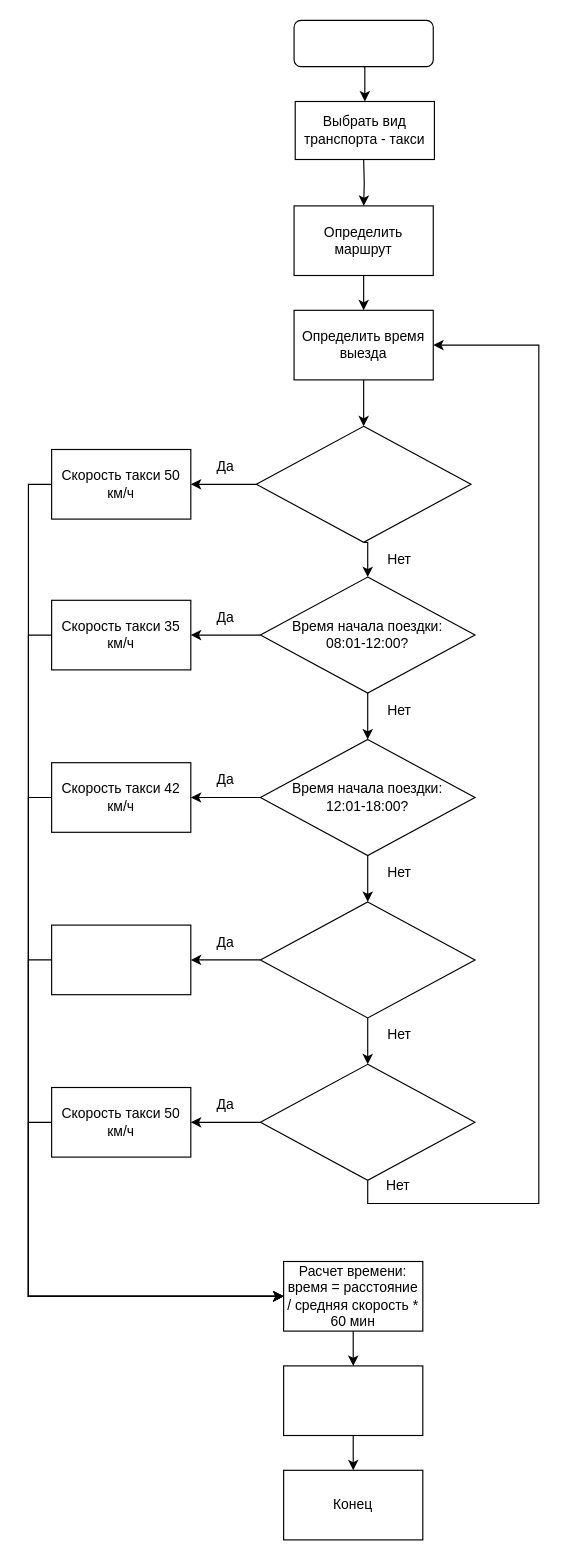
Image size: 568x1560. Some labels were removed from this diagram. Each missing label, with the centre of its shape:
"Время начала поездки: 00:01-08:00?" belongs at [363,483].
"Время начала поездки: 18:01-22:00?" belongs at [367,959].
"Время начала поездки: 22:01-00:00?" belongs at [367,1121].
"Начало" belongs at [363,43].
"Расчет стоимости: стоимость = расстояние * тариф (11 руб/мин)" belongs at [352,1400].
"Скорость такси 30 км/ч" belongs at [120,959].
